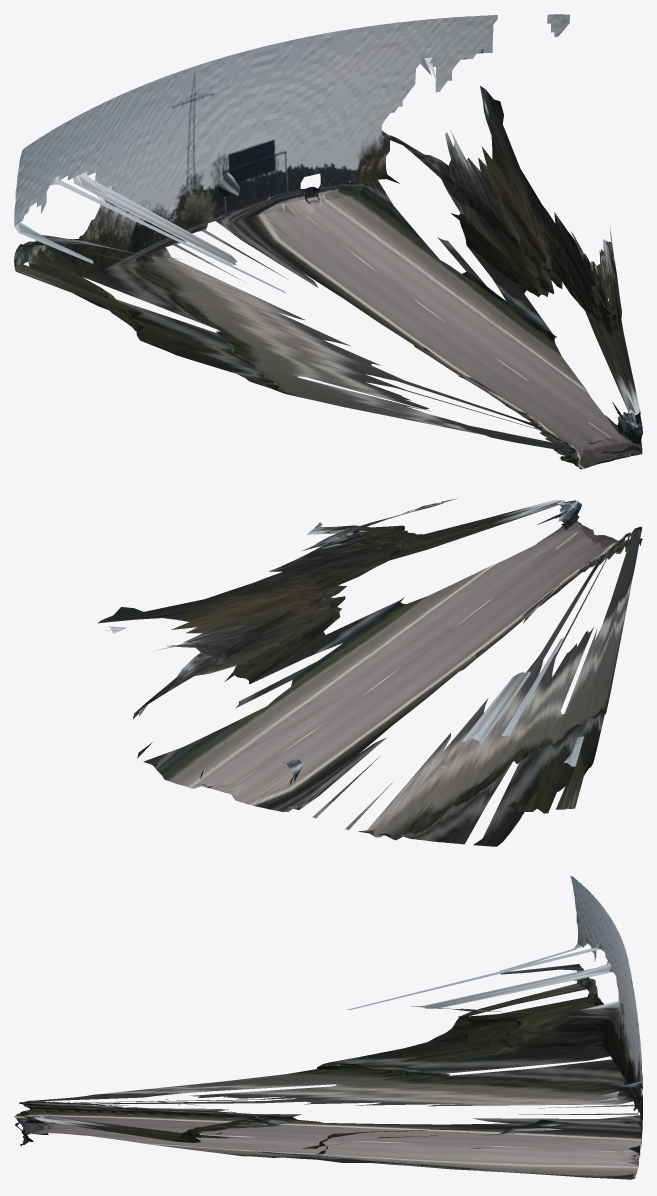
The picture shows the model from 3 angles, top to bottom: view 1: azimuth 30°, elevation 25°; view 2: azimuth 150°, elevation 25°; view 3: azimuth 270°, elevation 25°; orthographic projection. The views are drawn at different scales.
Parts seen in each view (by area): view 1: defaultobject; view 2: defaultobject; view 3: defaultobject.
Boxes of the visible parts, x1,y1,x2,y2 form: defaultobject: (14,14,642,469); defaultobject: (98,498,642,846); defaultobject: (14,875,642,1179).
Size of the model in its own units: 40.41 by 12.78 by 44.73.
Materials: 1 (1 with a texture image).
